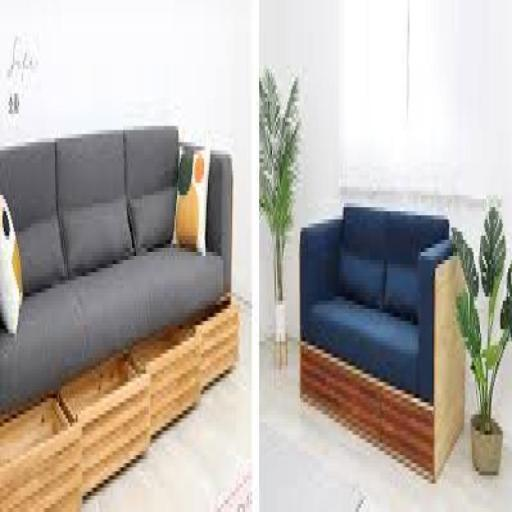sofa: (286, 176, 512, 500), (0, 126, 238, 396)
